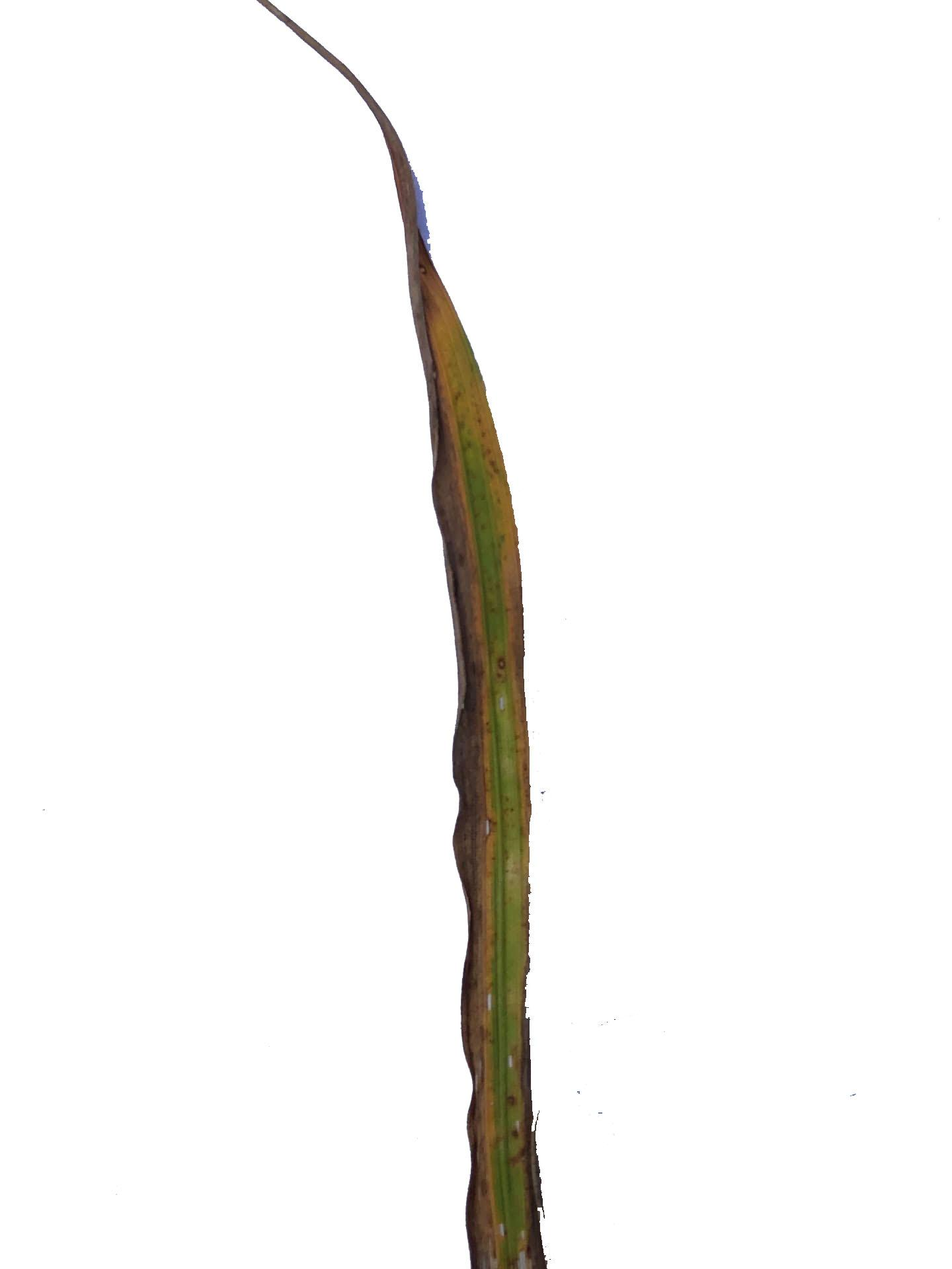Rice blast: (253, 0, 547, 1269)
